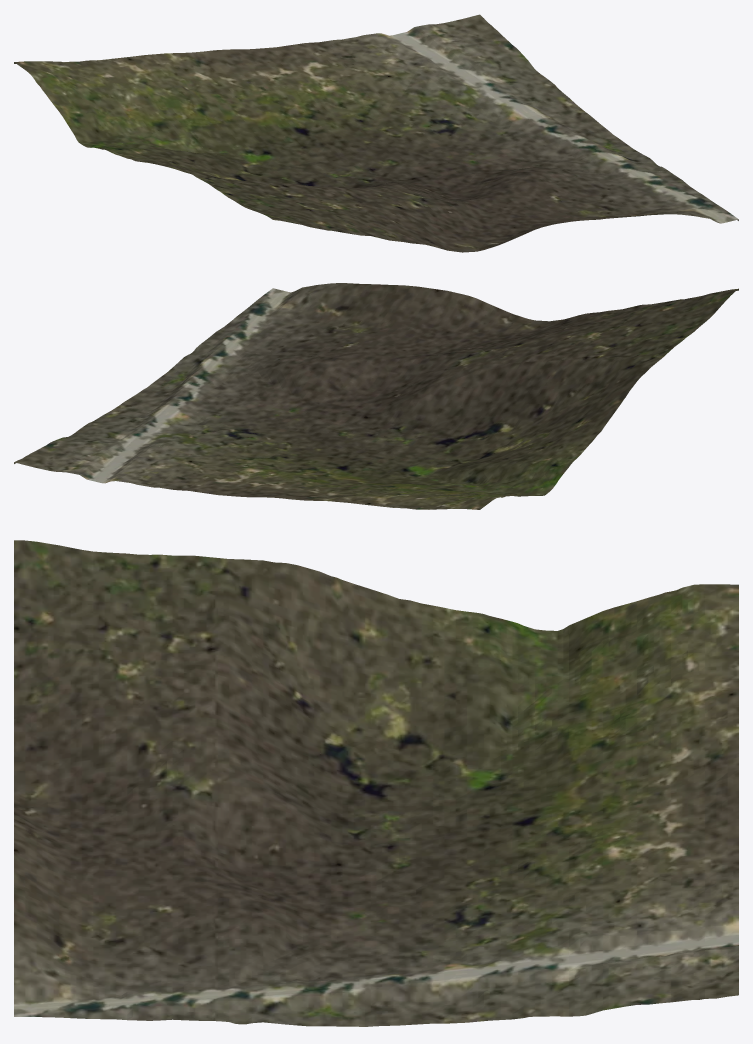
3 views of the same model, one above another, from view 1: azimuth 30°, elevation 25°; view 2: azimuth 150°, elevation 25°; view 3: azimuth 270°, elevation 25° (orthographic). The views are drawn at different scales.
Size of the model in its own units: 250 by 62.73 by 241.
1 material, 1 textured.
